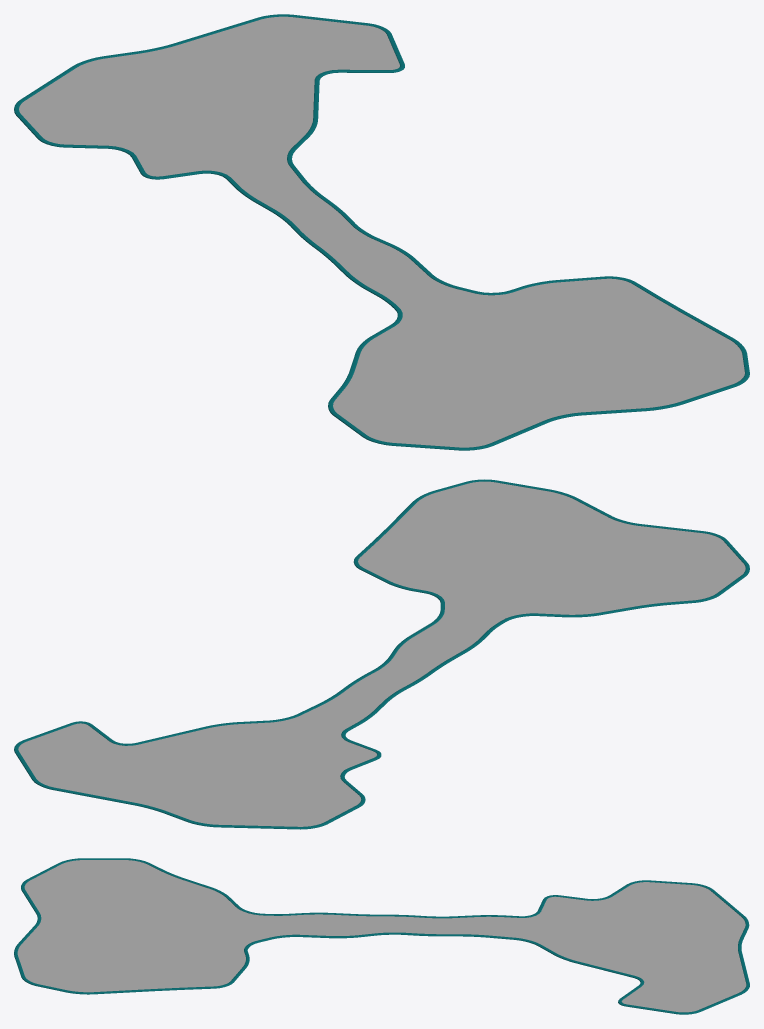
File: Lake.fbx
The picture shows the model from 3 angles, top to bottom: view 1: azimuth 30°, elevation 25°; view 2: azimuth 150°, elevation 25°; view 3: azimuth 270°, elevation 25°; orthographic projection. The views are drawn at different scales.
Parts seen in each view (by area): view 1: Lake; view 2: Lake; view 3: Lake.
Boxes of the visible parts, x1,y1,x2,y2 form: Lake: [14, 14, 749, 450]; Lake: [14, 479, 749, 829]; Lake: [14, 858, 749, 1014].
Bounding box in the file's own units: 21815 × 60 × 43564.
